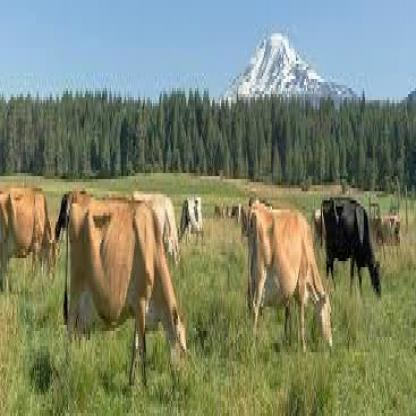cow: (64, 199, 187, 390), (246, 197, 333, 358), (319, 193, 383, 302), (0, 186, 57, 288), (53, 190, 88, 250), (176, 193, 204, 244), (374, 213, 401, 255)
